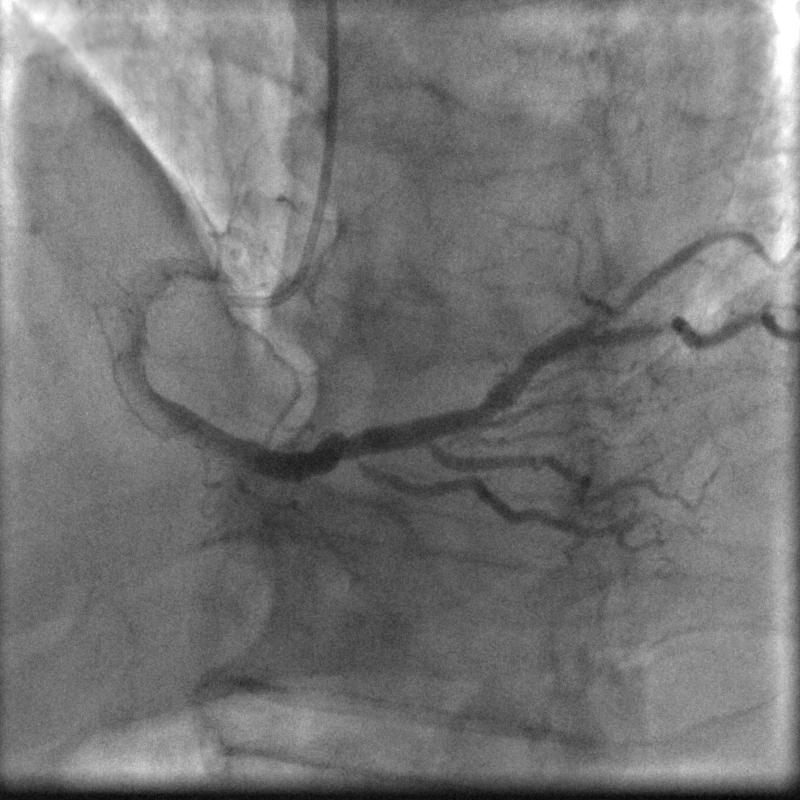Stenosis: (625, 313, 691, 338)
